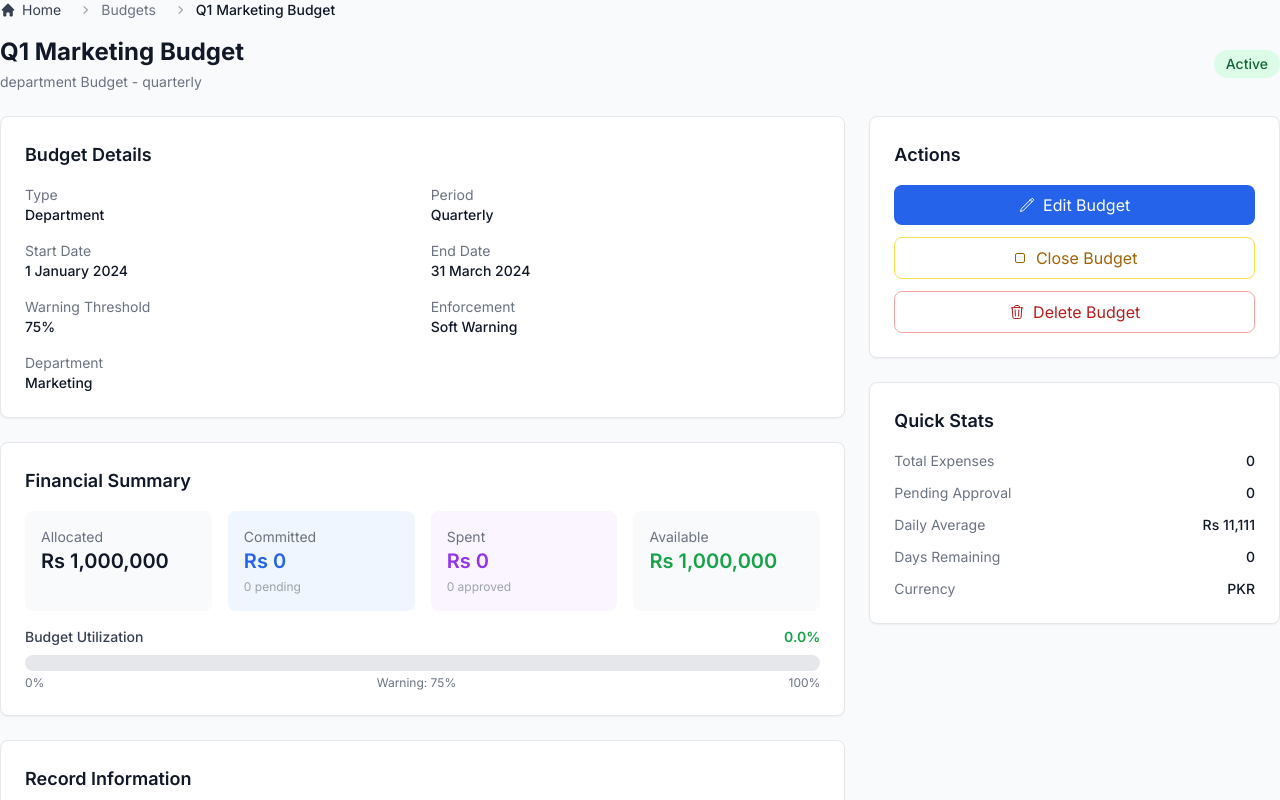
Test case: BudgetDetailPage › Delete Confirmation › delete button shows confirmation dialog
This screenshot has width=1280, height=800.
Click the button "Delete Budget" at (1075, 312), box [894,291,1255,333]
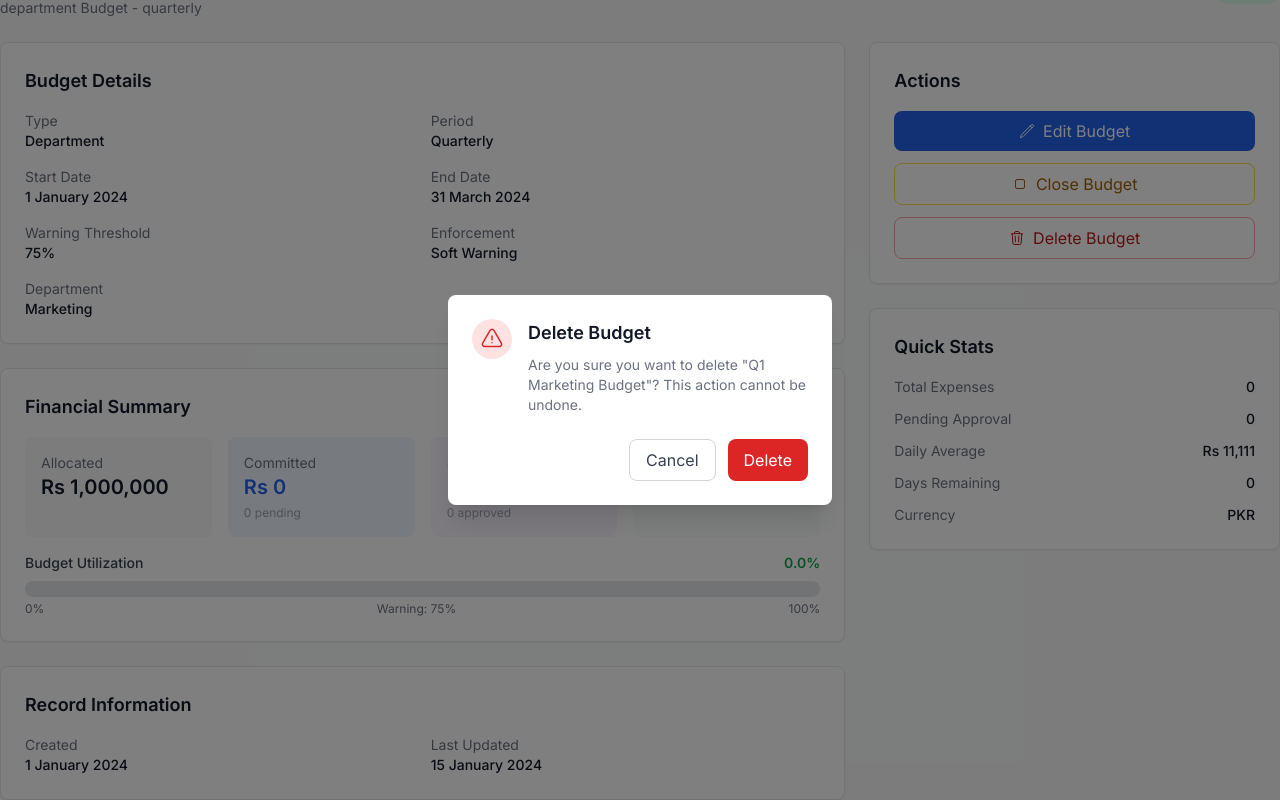
Check: the text "this action cannot be undone" is shown, box [528,356,806,413]
